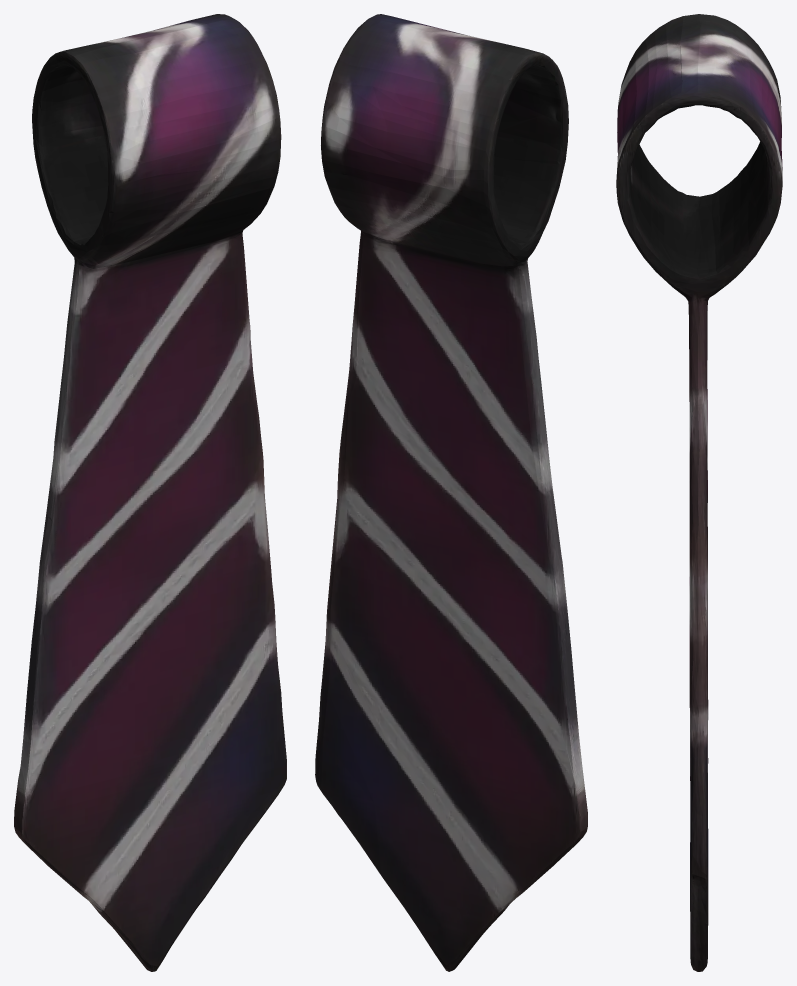
3 views of the same model, side by side, from view 1: azimuth 30°, elevation 25°; view 2: azimuth 150°, elevation 25°; view 3: azimuth 270°, elevation 25° (orthographic).
Parts seen in each view (by area): view 1: geometry_0; view 2: geometry_0; view 3: geometry_0.
Part boxes in pixels (x1,y1,x2,y2): geometry_0: (14,14,286,971); geometry_0: (315,14,587,971); geometry_0: (616,14,782,971).
Size of the model in its own units: 0.2995 by 0.9995 by 0.1636.
1 material, 1 textured.
